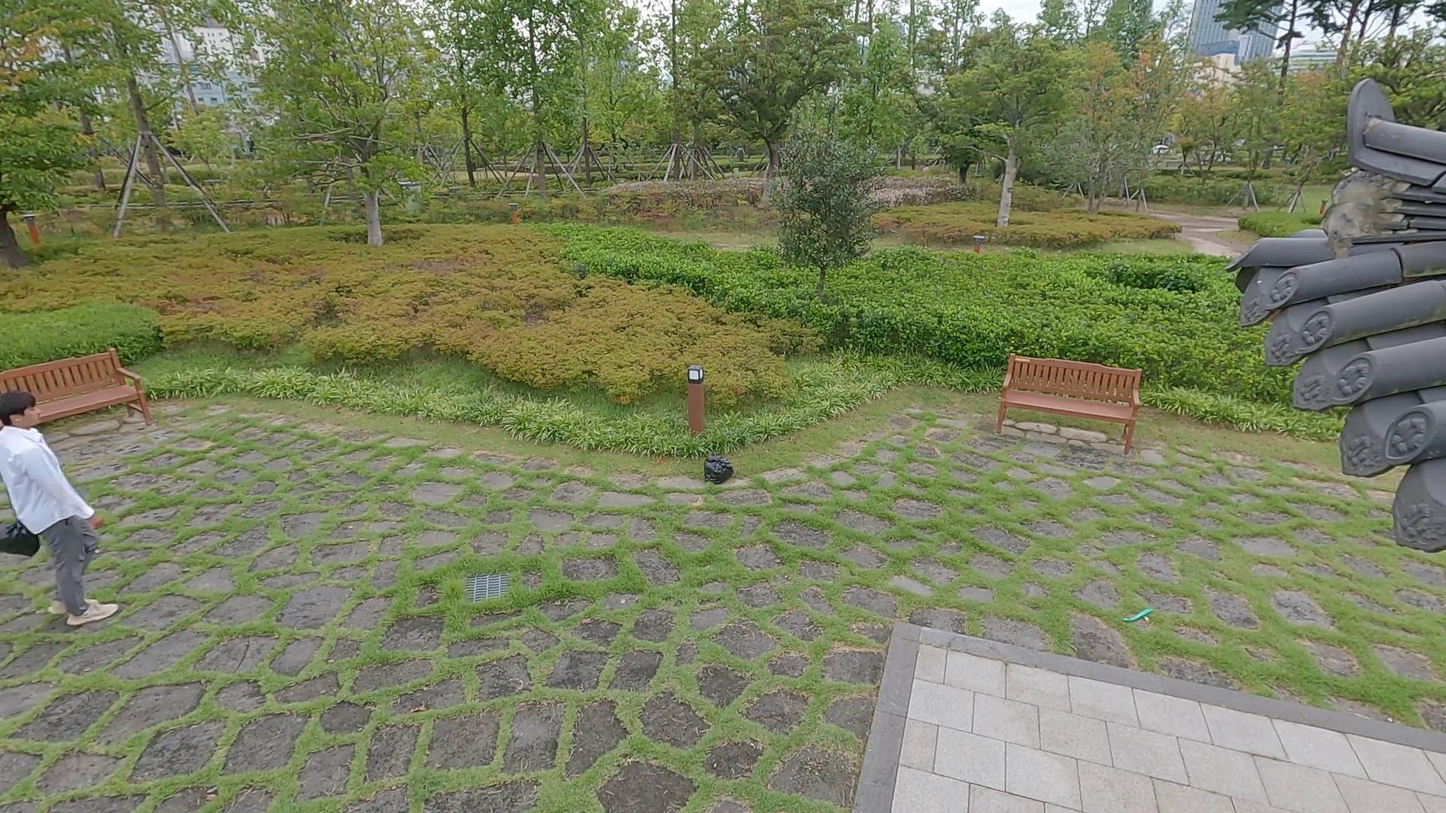person: (0, 388, 120, 630)
trash: (0, 513, 41, 561), (703, 454, 734, 484)
